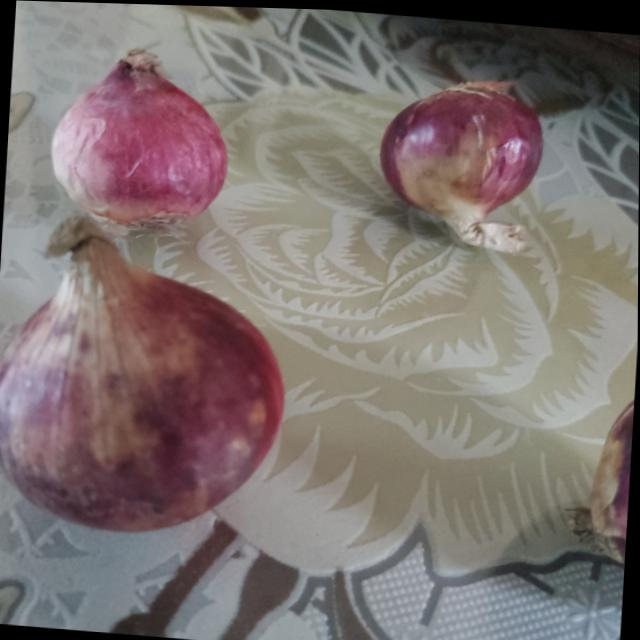onion: (0, 213, 295, 542), (52, 48, 236, 235), (375, 76, 542, 229), (568, 393, 635, 559)
